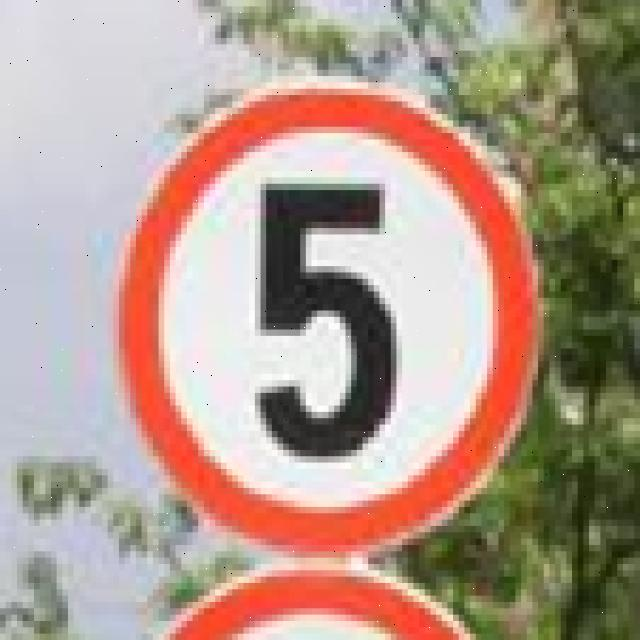speed limit 10: (116, 81, 540, 556)
